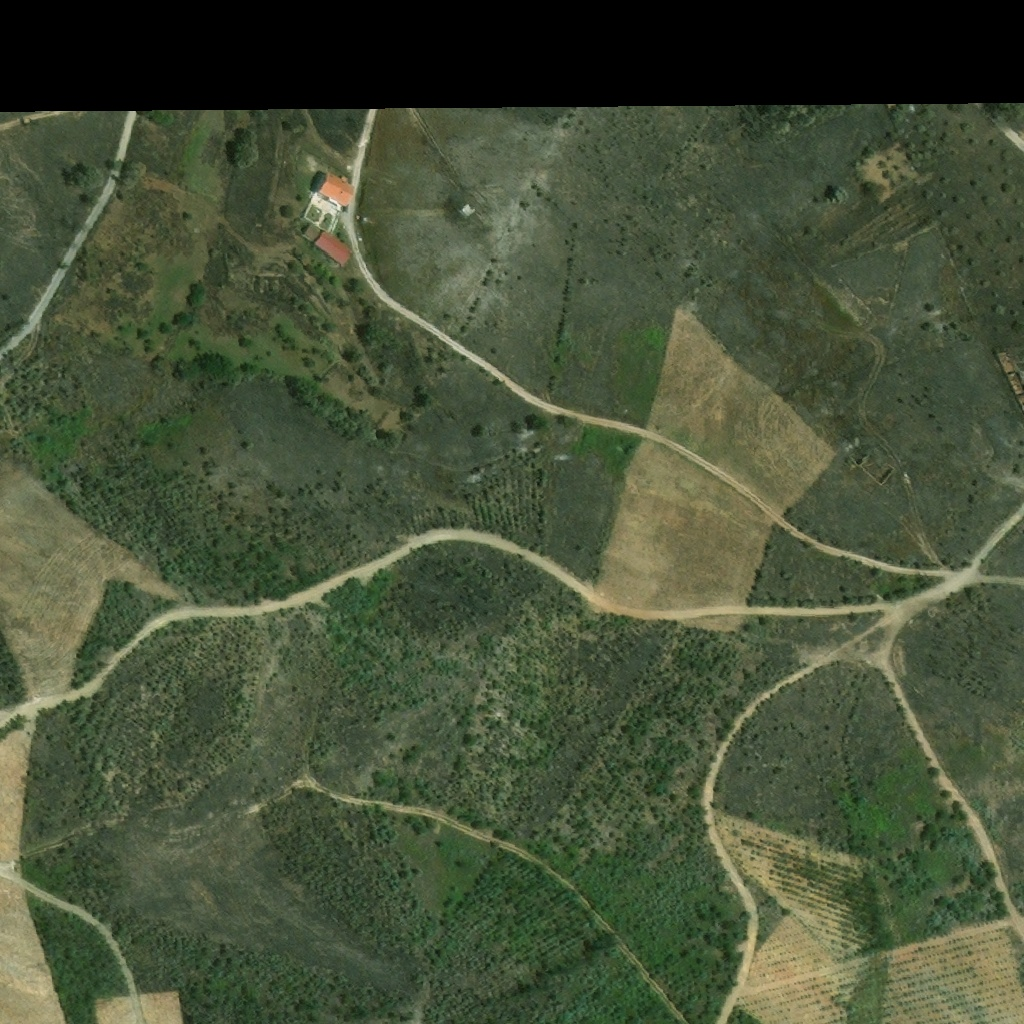0 no-damage: (301, 223, 353, 265), (317, 173, 356, 209)
3 destroyed: (996, 351, 1023, 413), (463, 204, 475, 217)
